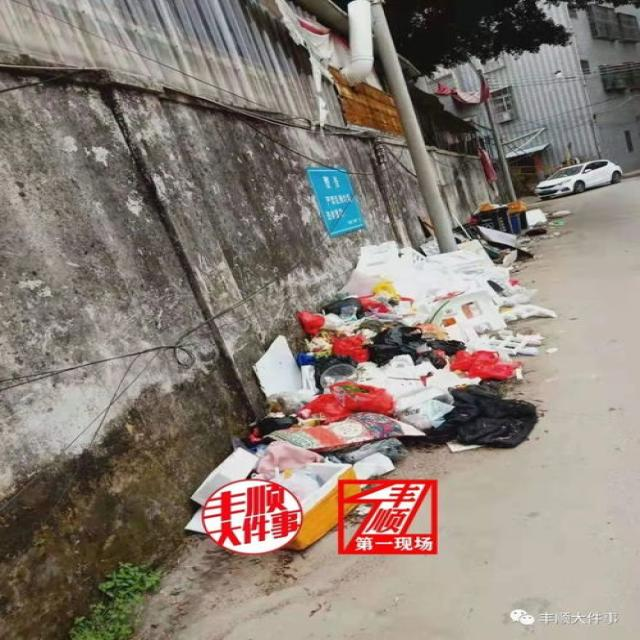garbage: (182, 199, 549, 553)
